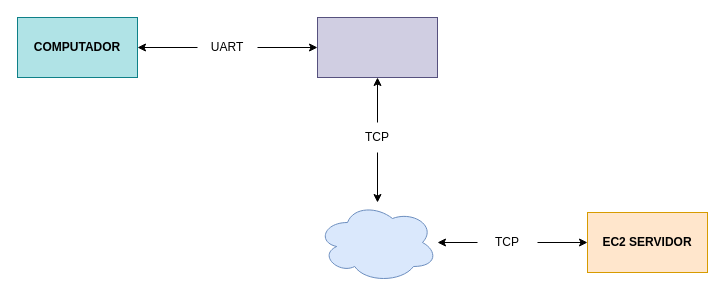
Some shapes in this 725 by 300 pixel diagram are drawn without their labels. Here are the shapes that lost their labels. From the top down, the centre of each, then its label:
At point 377,47: "ARTEFATO".
At point 377,242: "INTERNET".
